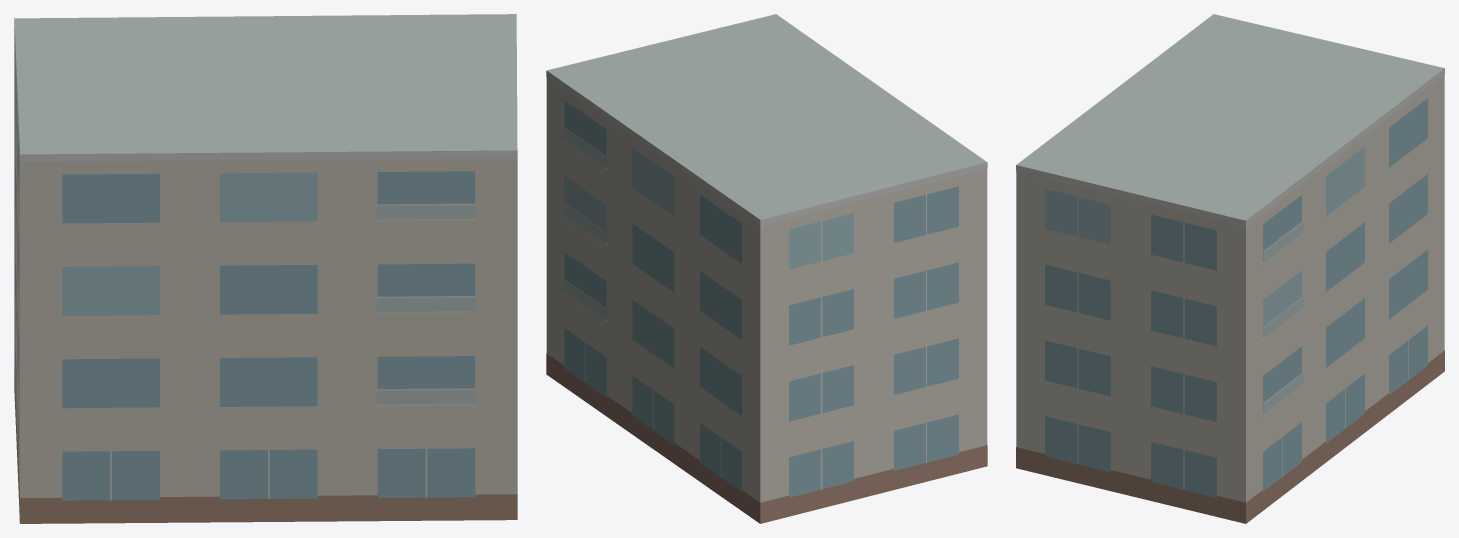
Rendered from survey-upis-33043235.glb.
3 renders of one model, left to right at view 1: azimuth 30°, elevation 25°; view 2: azimuth 150°, elevation 25°; view 3: azimuth 270°, elevation 25°, orthographic. The views are drawn at different scales.
Visible parts, largest first — view 1: survey-upis-33043235.tmp; view 2: survey-upis-33043235.tmp; view 3: survey-upis-33043235.tmp.
Boxes of the visible parts, x1,y1,x2,y2 form: survey-upis-33043235.tmp: (14,14,517,523); survey-upis-33043235.tmp: (546,14,987,523); survey-upis-33043235.tmp: (1016,14,1444,523).
Bounding box in the file's own units: 16.97 × 11.6 × 14.87.
